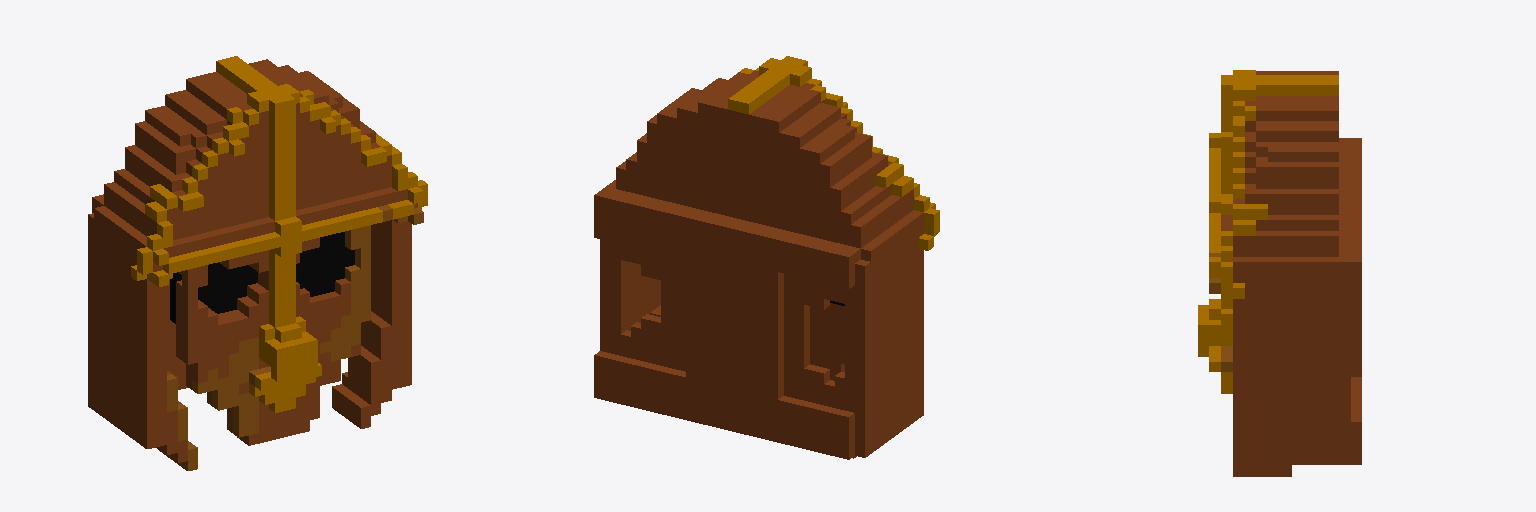
3 renders of one model, left to right at view 1: azimuth 30°, elevation 25°; view 2: azimuth 150°, elevation 25°; view 3: azimuth 270°, elevation 25°, orthographic.
Parts seen in each view (by area): view 1: object 1; view 2: object 1; view 3: object 1.
Boxes of the visible parts, x1=… form: object 1: x1=88, y1=56, x2=427, y2=470; object 1: x1=594, y1=56, x2=939, y2=459; object 1: x1=1198, y1=70, x2=1361, y2=476.
Bounding box in the file's own units: 2.8 × 3.3 × 1.4.
Materials: 1 (1 with a texture image).